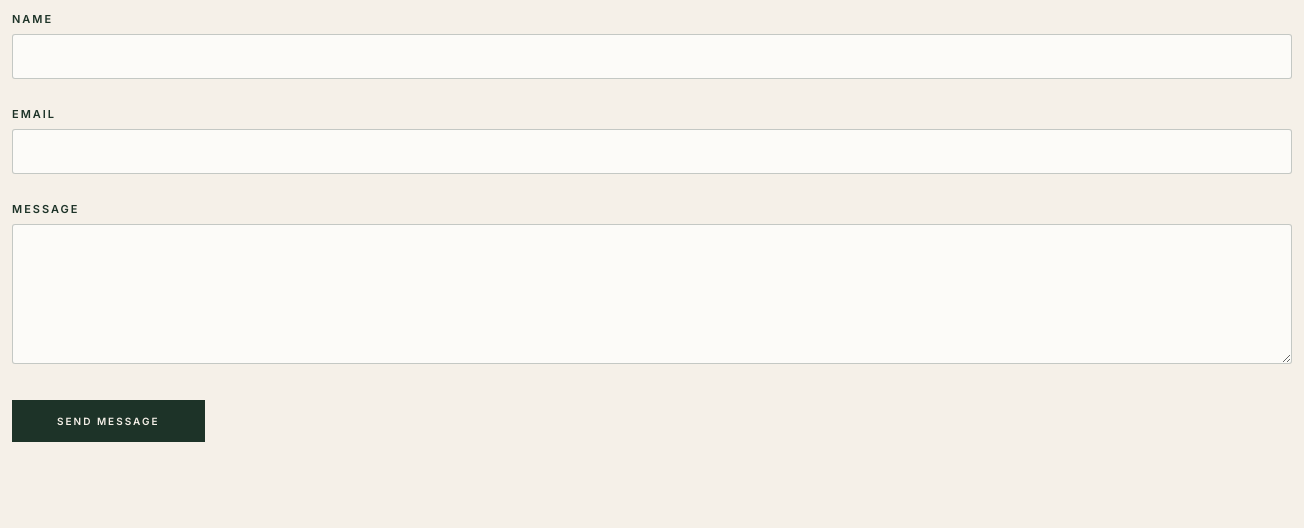
ContactForm › shows error message on failed submission
Type "Alice" into the field labelled "Name". click: (652, 56)
box: [12, 34, 1292, 79]
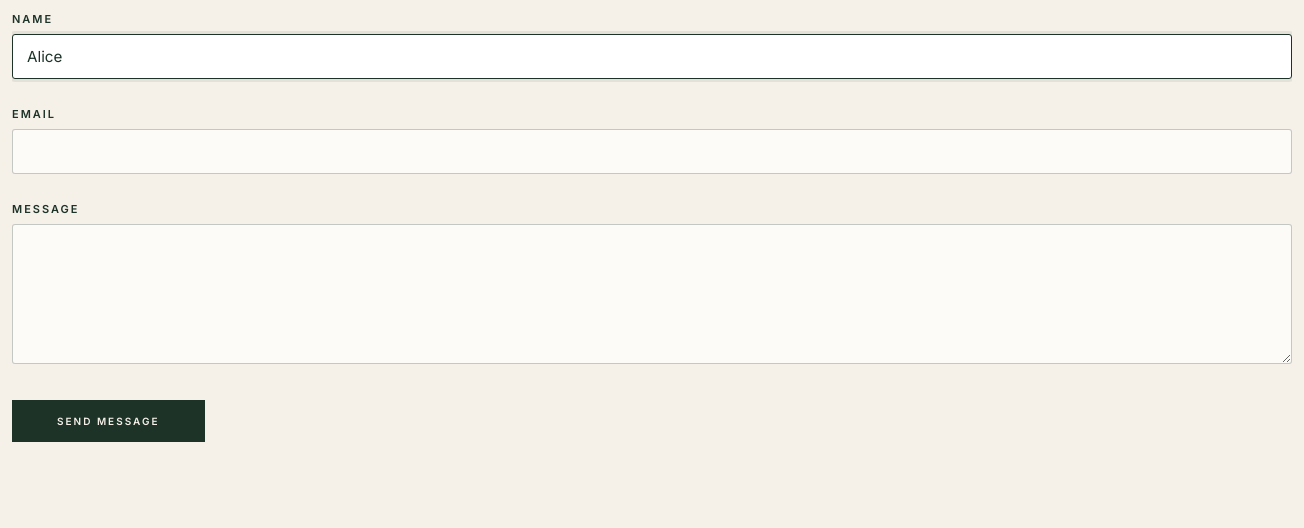
Type "a@b.com" into the field labelled "Email". click: (652, 152)
box: [12, 129, 1292, 174]
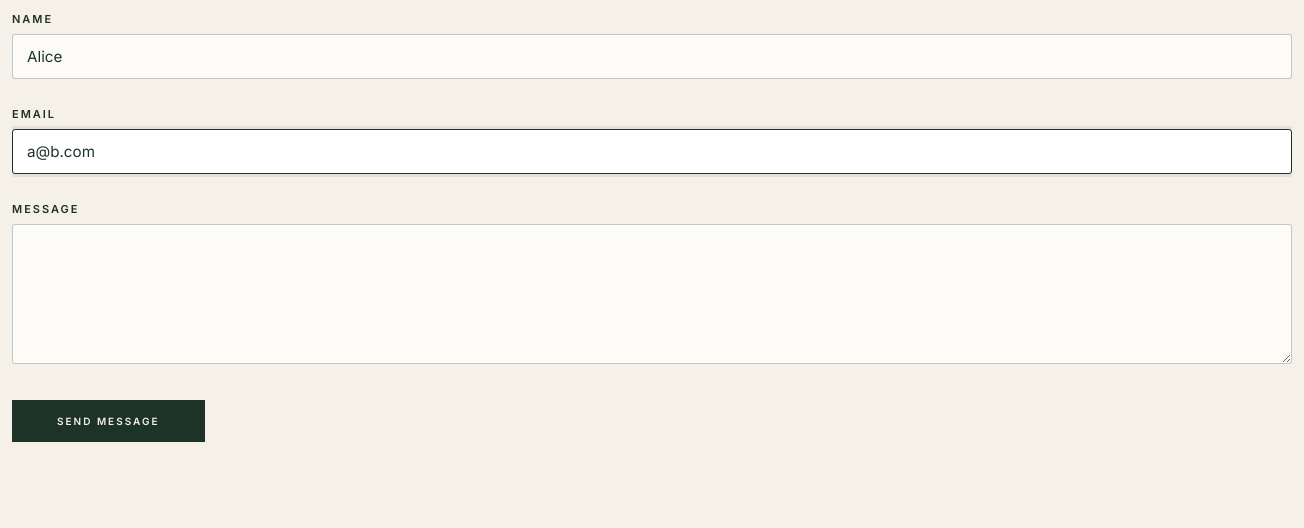
Type "Hello" into the text box labelled "Message". click: (652, 294)
box: [12, 224, 1292, 364]
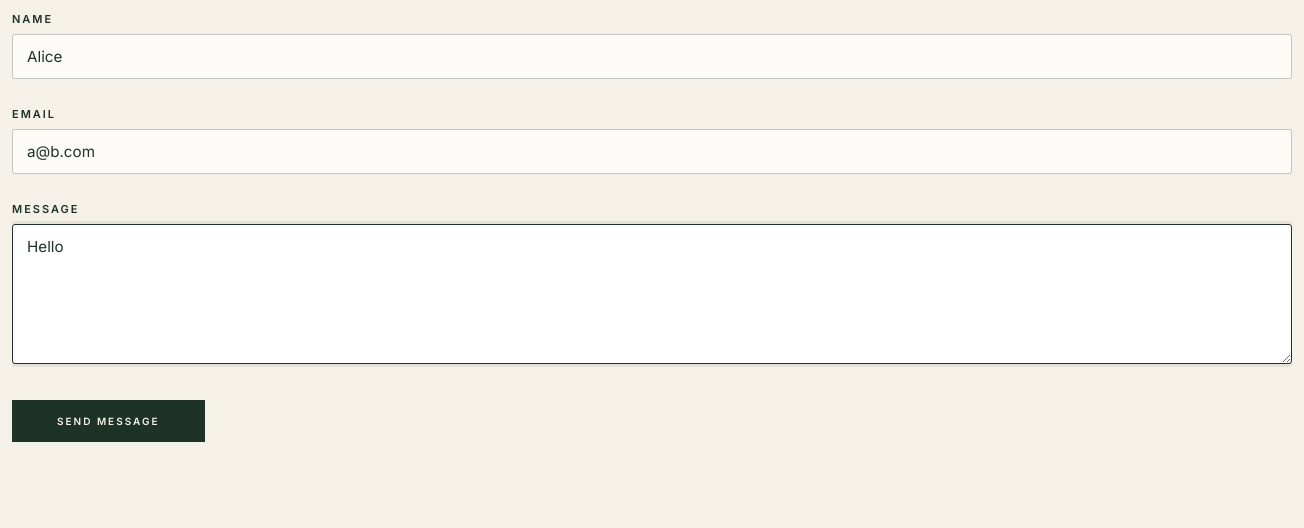
Click the button "Send Message". click: (108, 421)
box: [12, 400, 204, 442]
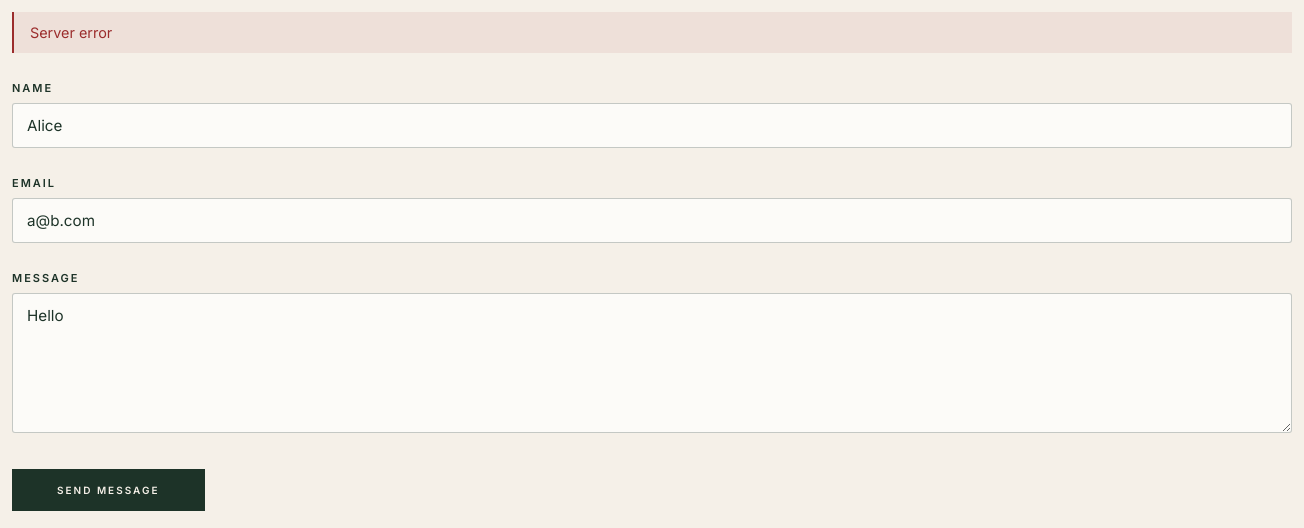
Result: the message "Server error" is shown at [12, 12, 1292, 53]
